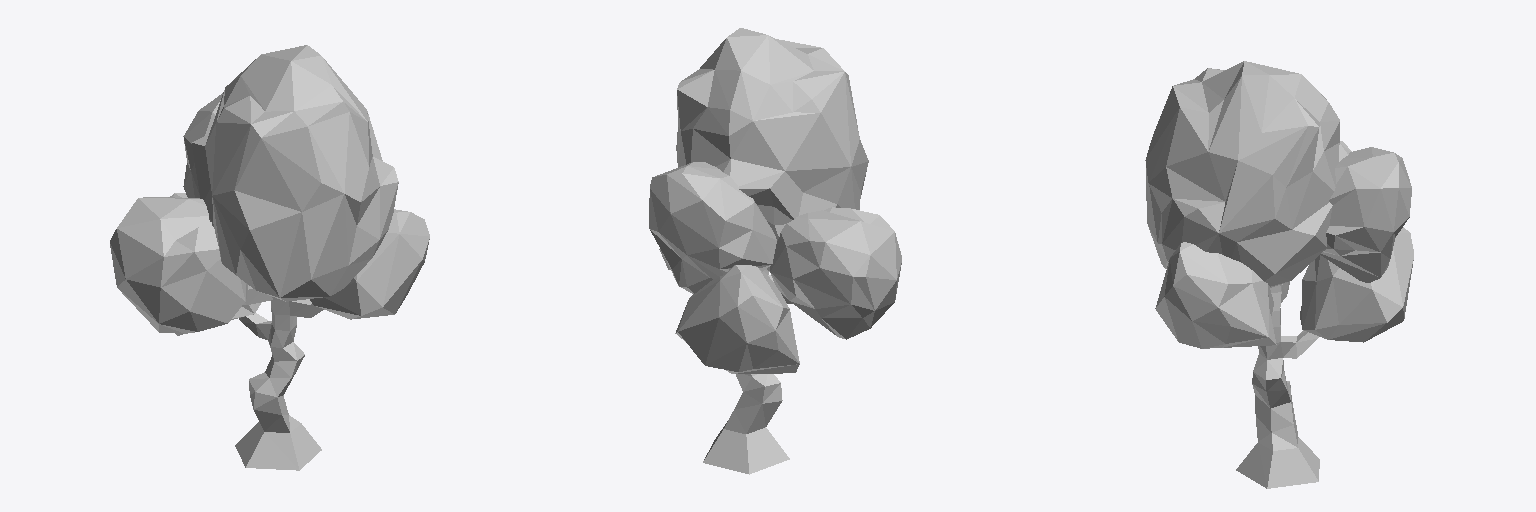
File: tree04.obj
The picture shows the model from 3 angles: view 1: azimuth 30°, elevation 25°; view 2: azimuth 150°, elevation 25°; view 3: azimuth 270°, elevation 25°; orthographic projection.
Parts seen in each view (by area): view 1: SM_Env_Tree_Twisted_01_Mesh.006; view 2: SM_Env_Tree_Twisted_01_Mesh.006; view 3: SM_Env_Tree_Twisted_01_Mesh.006.
Boxes of the visible parts, x1=… form: SM_Env_Tree_Twisted_01_Mesh.006: x1=110, y1=45, x2=429, y2=470; SM_Env_Tree_Twisted_01_Mesh.006: x1=649, y1=28, x2=901, y2=474; SM_Env_Tree_Twisted_01_Mesh.006: x1=1145, y1=61, x2=1413, y2=488.
Bounding box in the file's own units: 3.34 × 5.02 × 3.